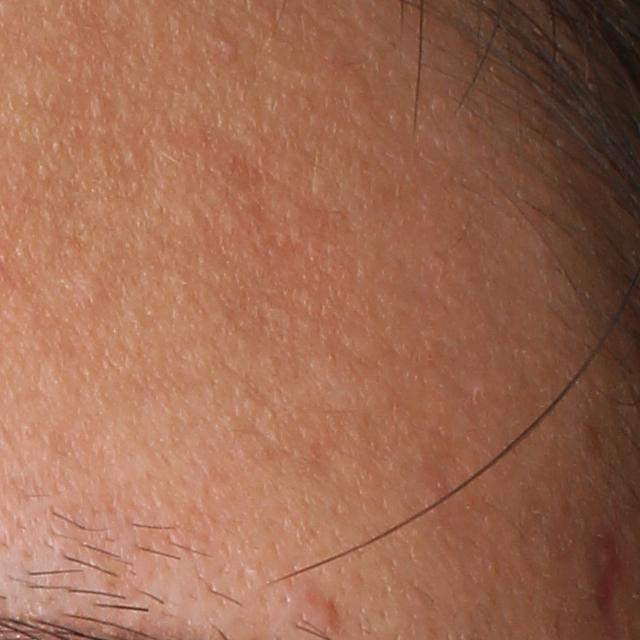atrophic_scar: (592, 538, 634, 630)
comedo: (72, 276, 107, 312), (86, 95, 114, 126), (219, 33, 243, 60)
